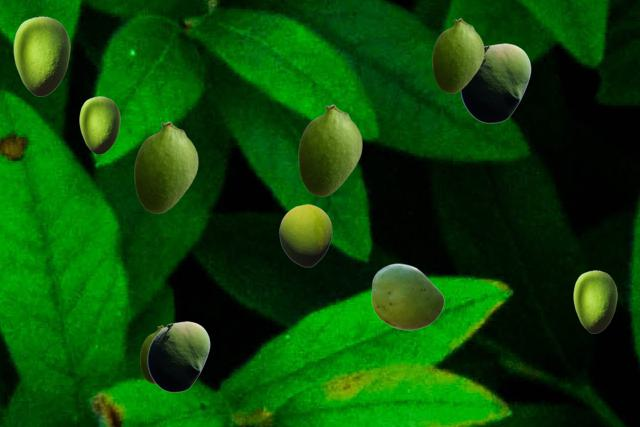green_mango: (134, 121, 197, 212), (298, 104, 361, 195), (460, 43, 530, 122), (371, 263, 443, 329), (13, 16, 69, 95), (147, 321, 209, 391), (432, 18, 483, 92), (279, 204, 331, 266), (573, 270, 616, 332), (79, 96, 119, 153), (140, 325, 164, 382)
